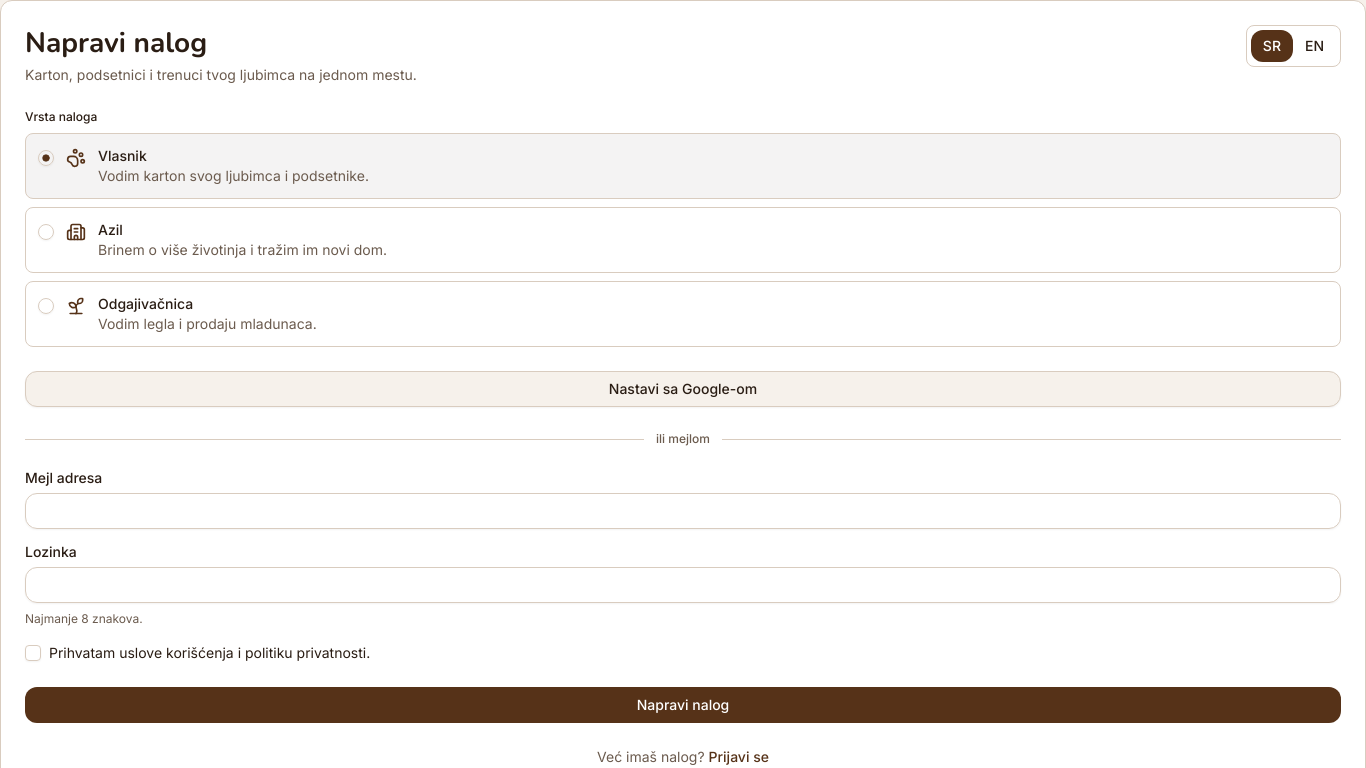
Test case: S15 Registracija (FR-33) › sign-up sends terms_version = TERMS_VERSION and the UI language, then shows Proveri mejl
Type "ivana.petrovic@gmail.com" into the field labelled "Mejl adresa" at [683, 511], box x1=25 y1=493 x2=1341 y2=529
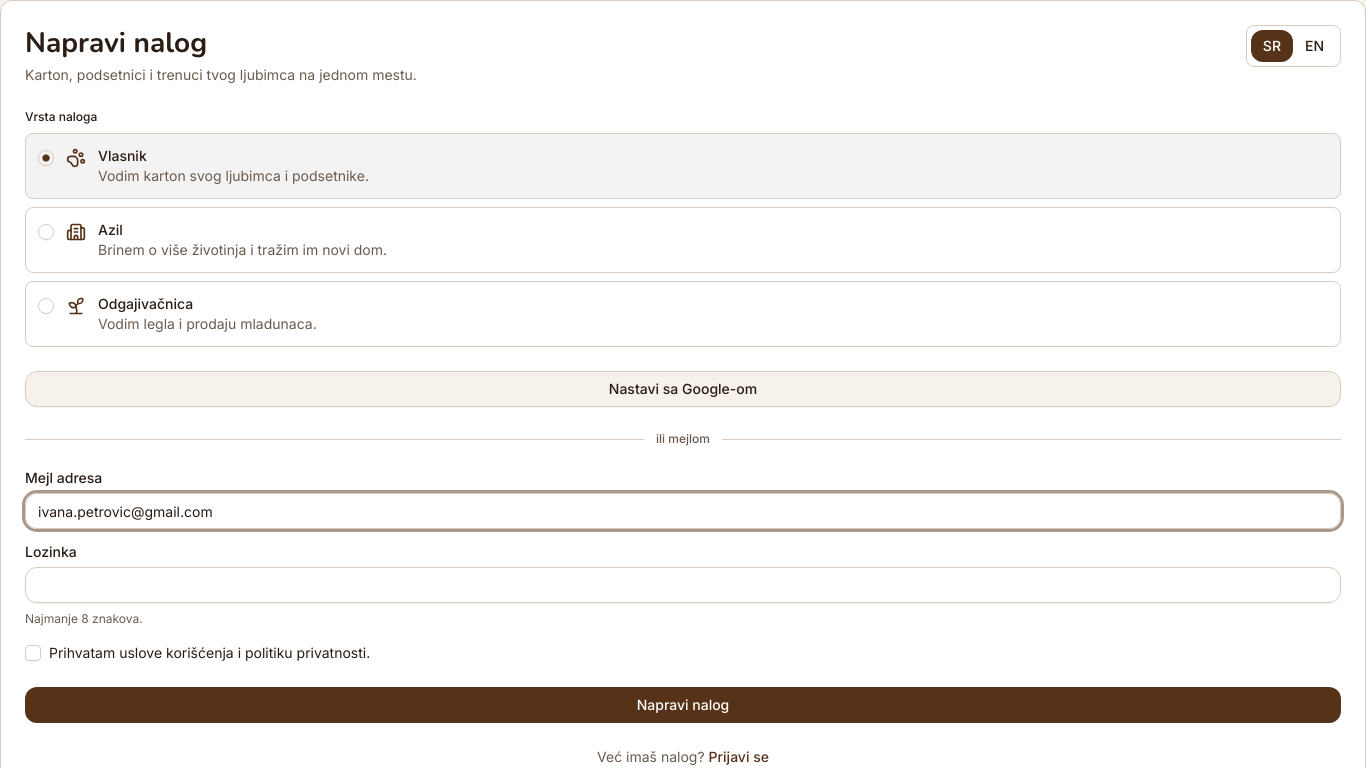
Type "dugalozinka" into the password field labelled "Lozinka" at [683, 585], box x1=25 y1=567 x2=1341 y2=603
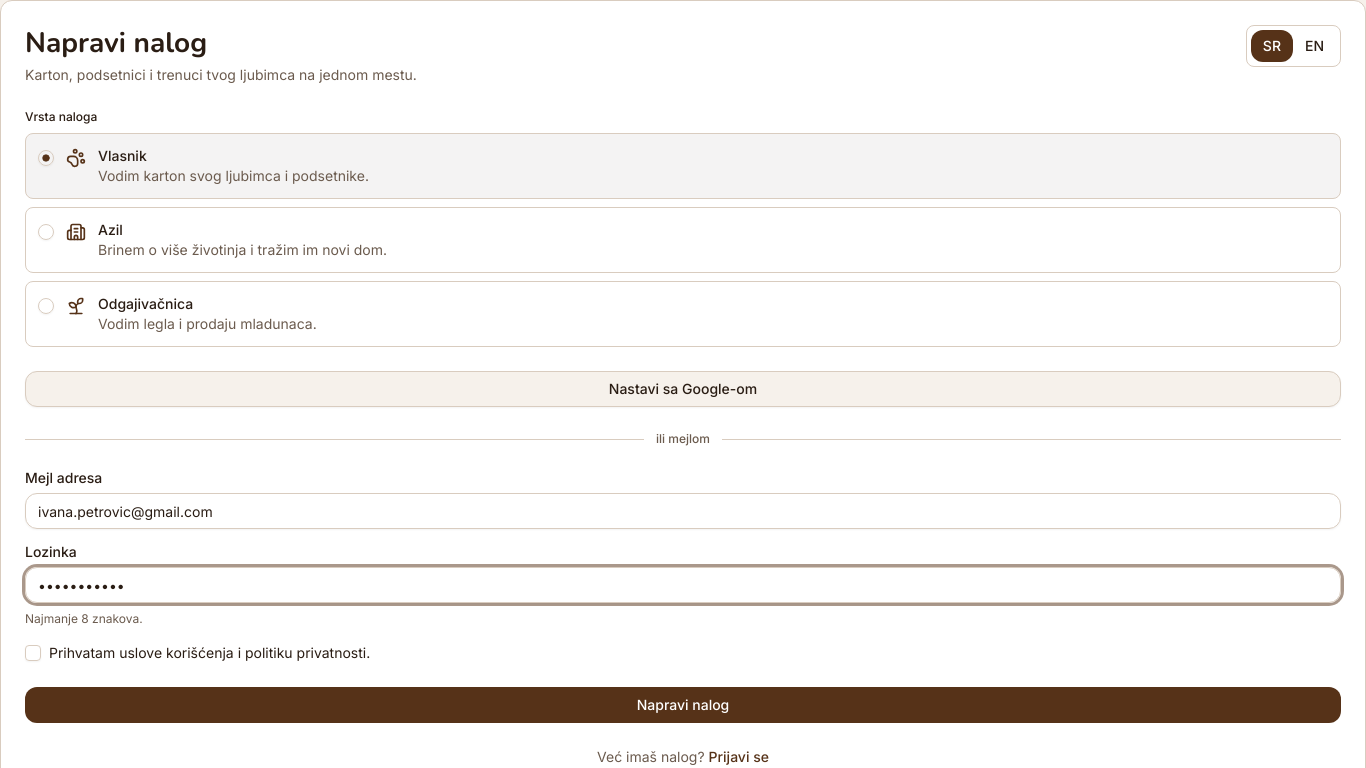
Click the checkbox at [33, 653], box x1=25 y1=645 x2=41 y2=661
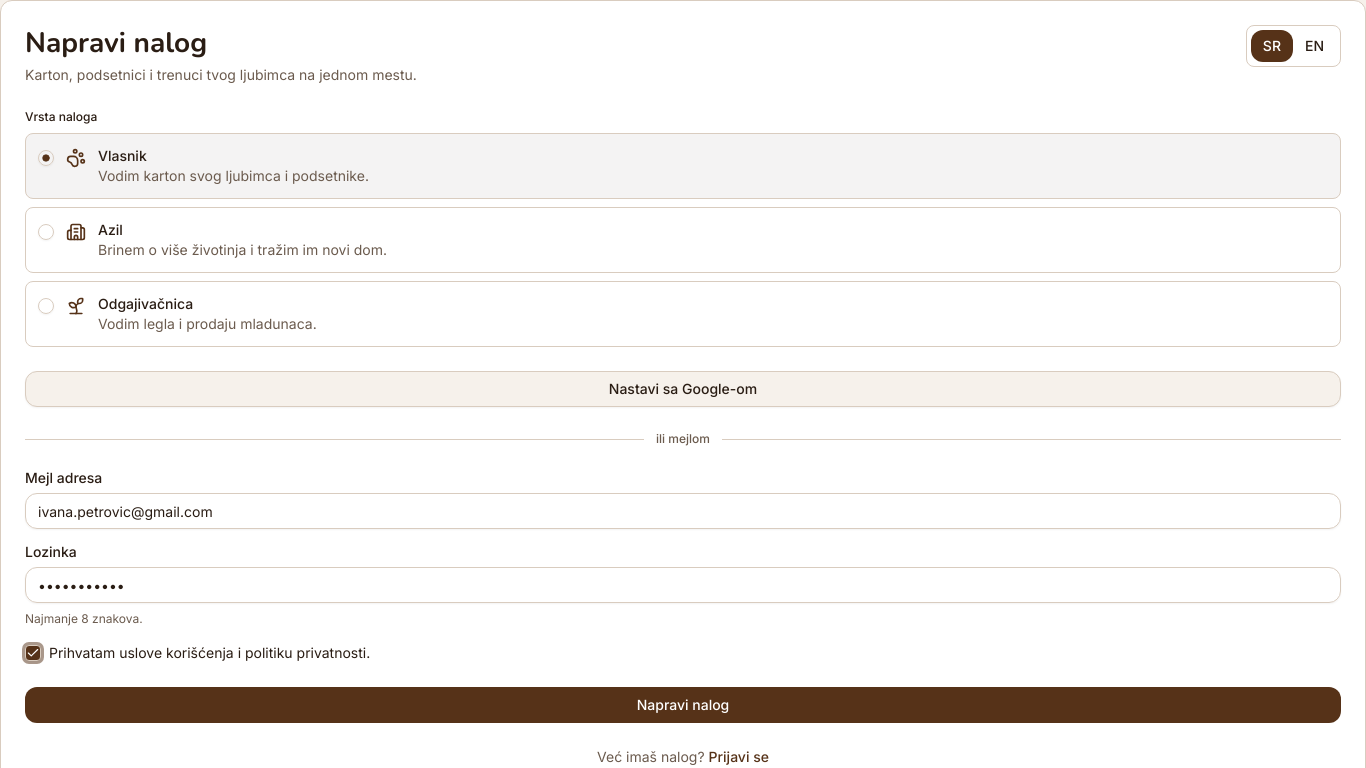
Click the button "Napravi nalog" at [683, 705], box x1=25 y1=687 x2=1341 y2=723
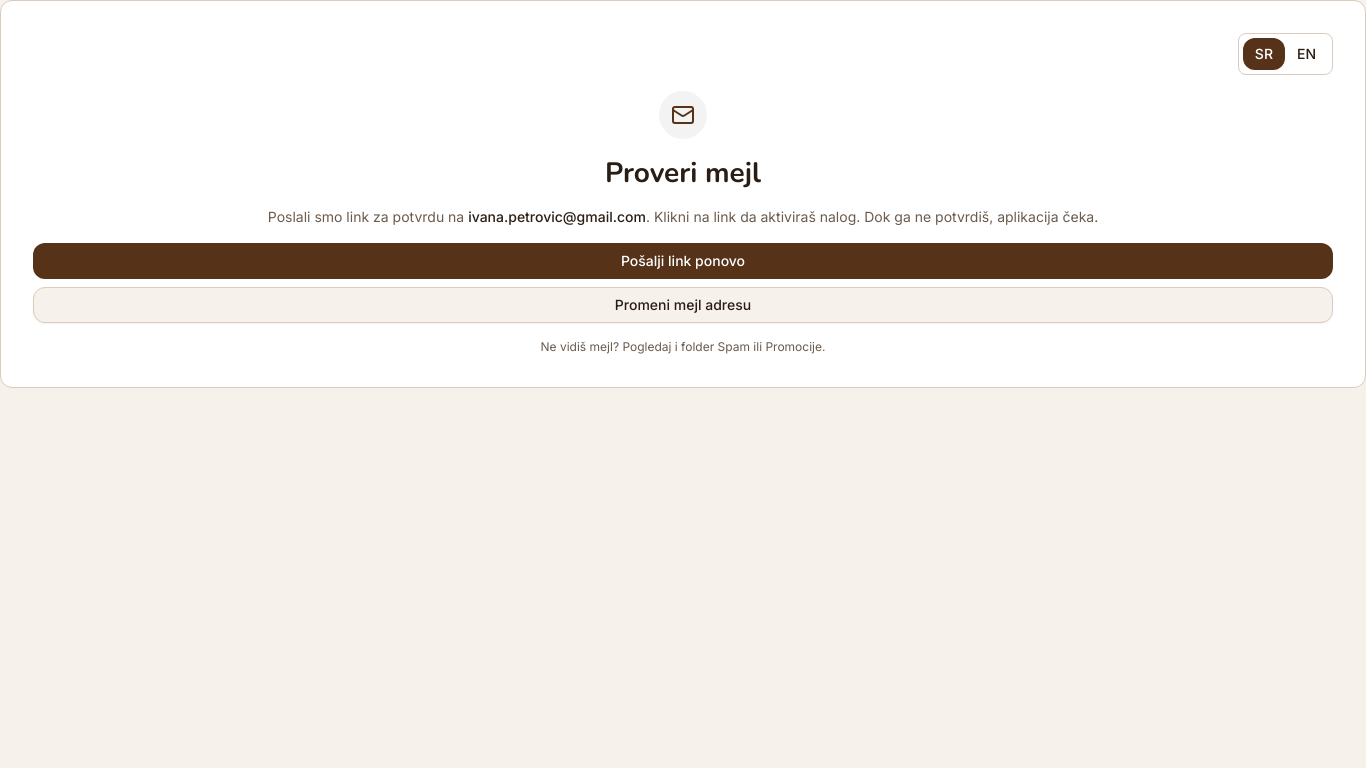
Expected: the heading "Proveri mejl" is shown, x1=605 y1=155 x2=761 y2=191
Expected: the text "ivana.petrovic@gmail.com" is shown, x1=468 y1=208 x2=646 y2=225
